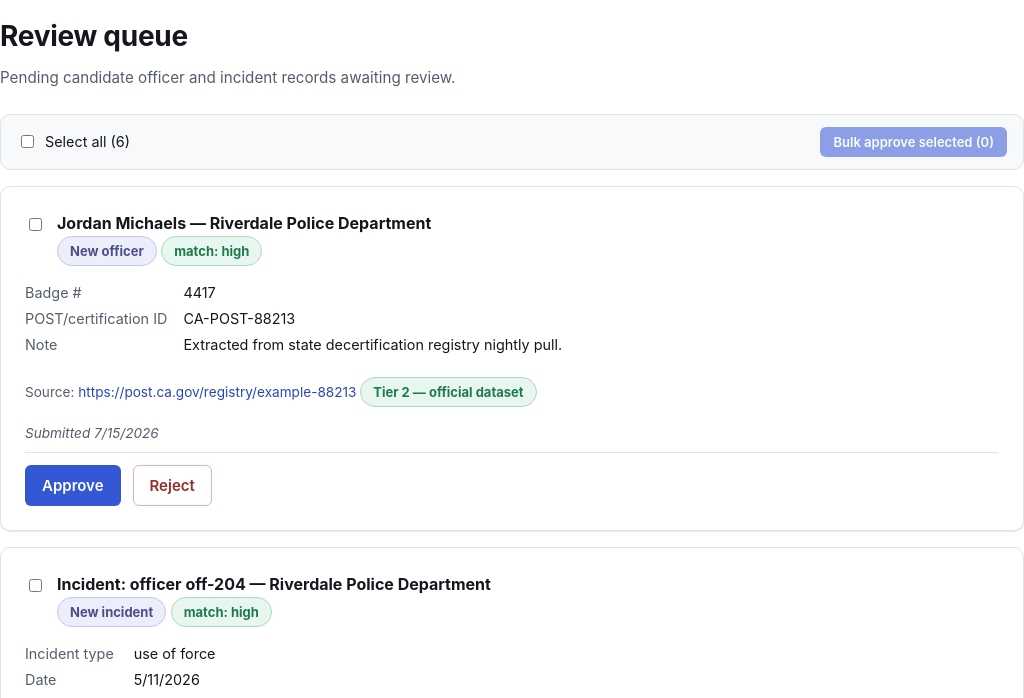
Test case: ReviewQueuePage › bulk-approves selected items and reports which succeeded/failed
Expected: the element with test id "review-item-rq-1" is shown, x1=0 y1=186 x2=1023 y2=531
Click the checkbox named "Select Jordan Michaels — Riverdale Police Department for bul": point(36, 224) x1=29 y1=218 x2=42 y2=231
(page scrolled)
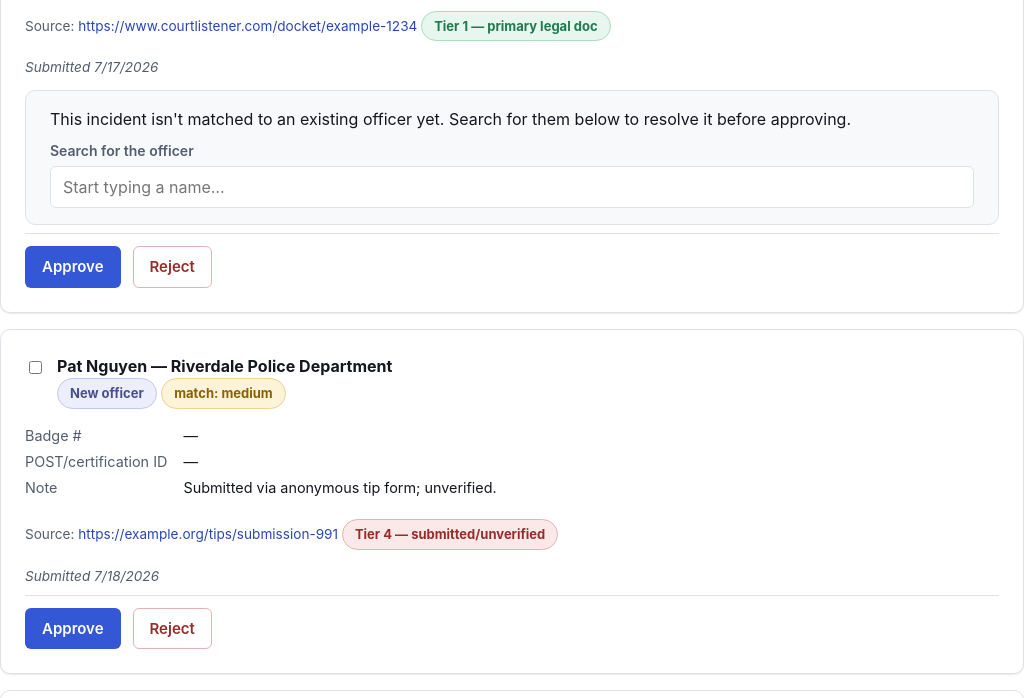
Click the checkbox named "Select Pat Nguyen — Riverdale Police Department for bulk app": point(36, 367) x1=29 y1=361 x2=42 y2=374
(page scrolled)
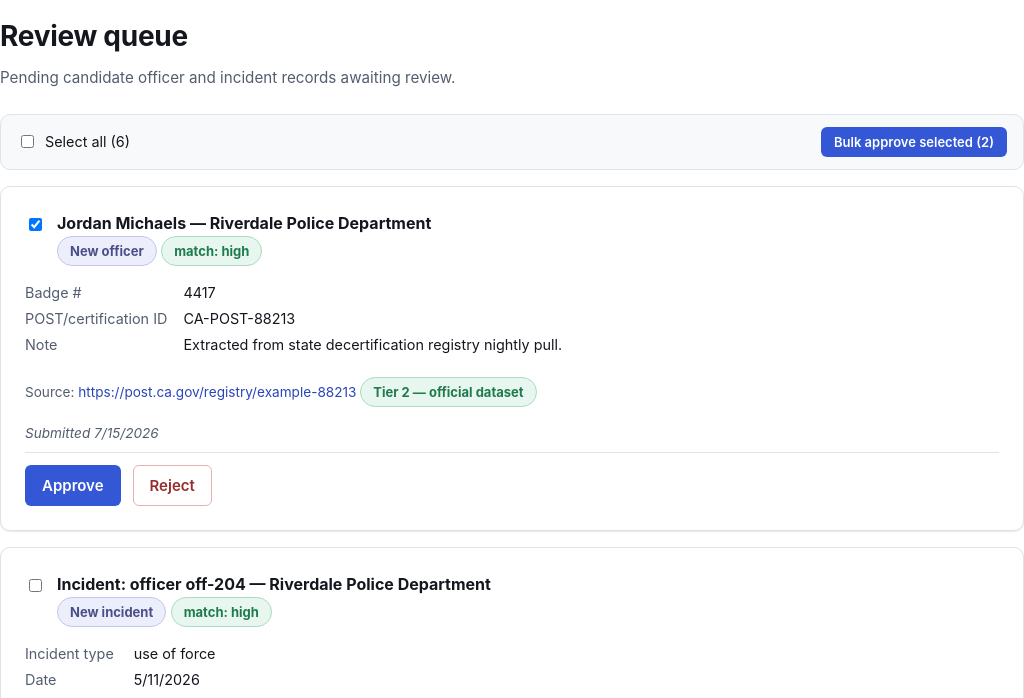
Click the button "Bulk approve selected (2)": point(914, 142) x1=821 y1=127 x2=1007 y2=157
(page scrolled)
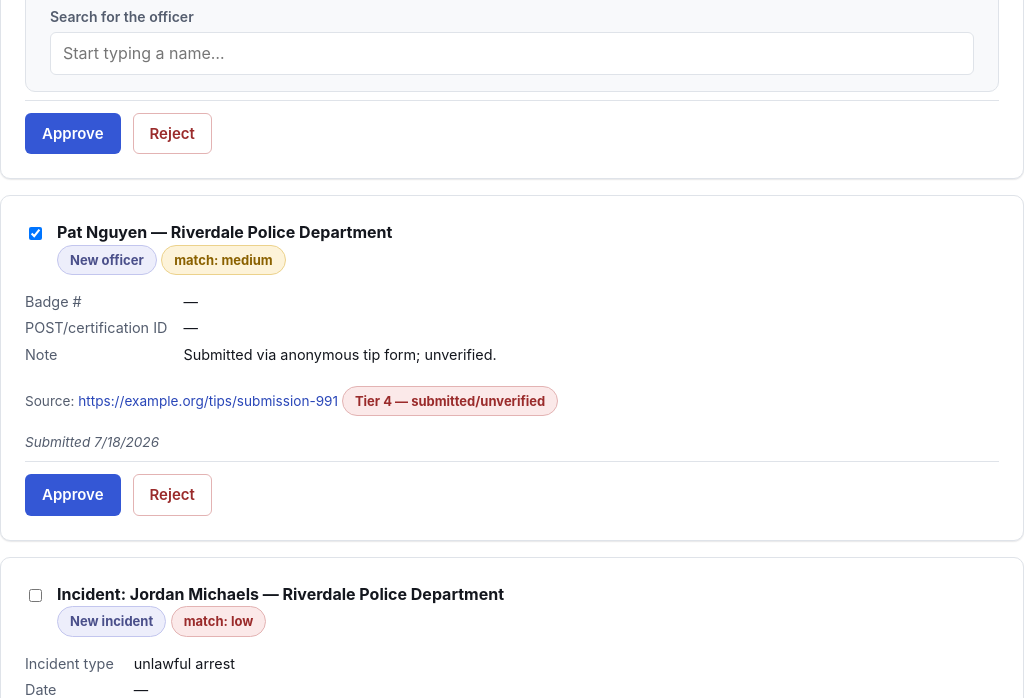
Expected: the element with test id "review-item-rq-4" is shown, x1=0 y1=195 x2=1023 y2=541
Result: the element with test id "review-item-rq-1" is gone
